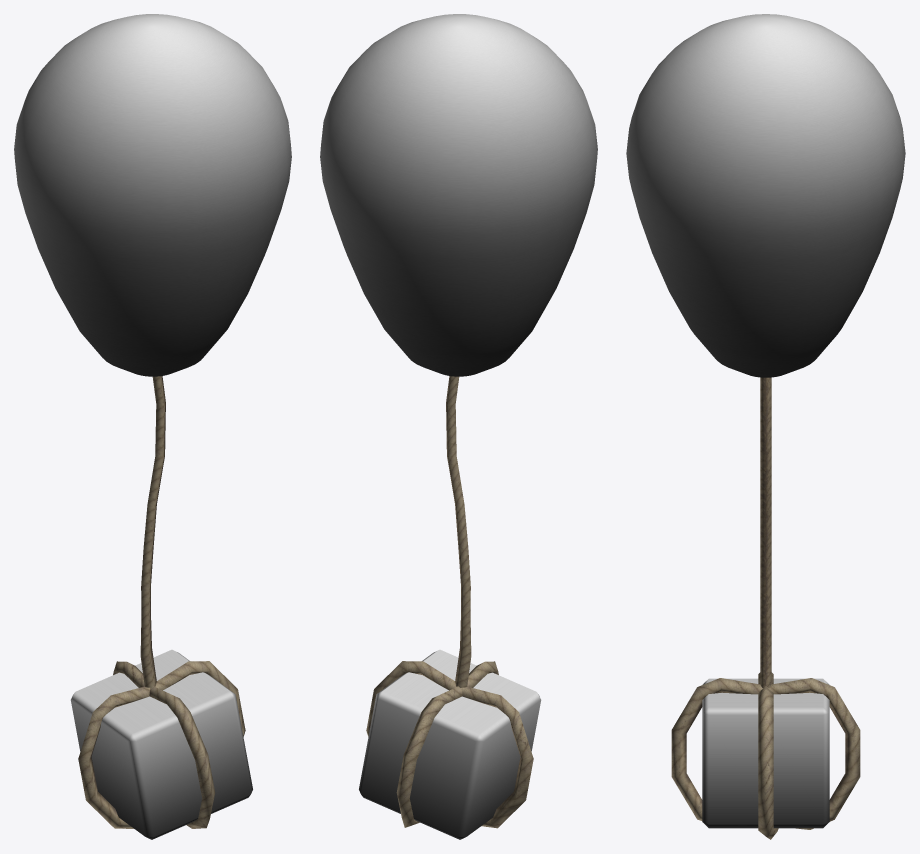
File: balloon_03.gltf
The picture shows the model from 3 angles, left to right: view 1: azimuth 30°, elevation 25°; view 2: azimuth 150°, elevation 25°; view 3: azimuth 270°, elevation 25°; orthographic projection.
Parts seen in each view (by area): view 1: balloon.003, package.003, rope.003; view 2: balloon.003, package.003, rope.003; view 3: balloon.003, package.003, rope.003.
Part boxes in pixels (x1=…): balloon.003: x1=14, y1=14, x2=291, y2=376; package.003: x1=70, y1=649, x2=252, y2=839; rope.003: x1=78, y1=376, x2=245, y2=828; balloon.003: x1=320, y1=14, x2=597, y2=376; package.003: x1=359, y1=649, x2=541, y2=839; rope.003: x1=366, y1=376, x2=533, y2=828; balloon.003: x1=626, y1=14, x2=905, y2=377; package.003: x1=702, y1=678, x2=829, y2=828; rope.003: x1=671, y1=377, x2=860, y2=839.
Bounding box in the file's own units: 1.5 × 4.73 × 1.5.
Materials: 3 (3 with a texture image).
